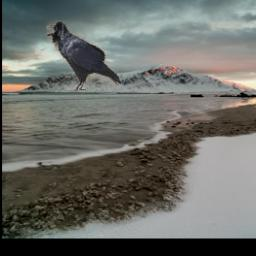Crow: (47, 20, 122, 90)
